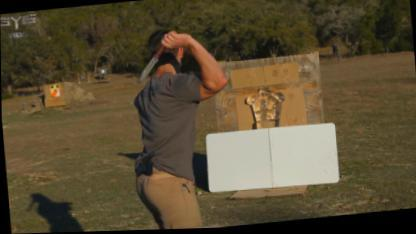knife: (130, 29, 183, 88)
